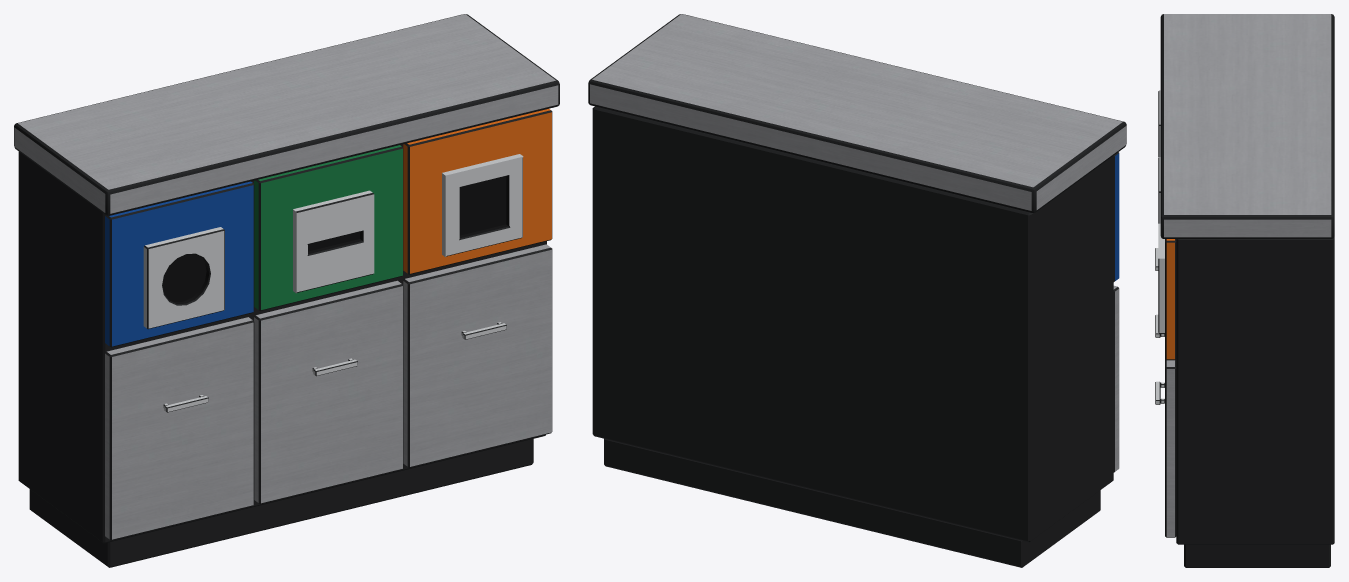
Rendered from gteki_bin_trio.glb.
3 views of the same model, side by side, from view 1: azimuth 30°, elevation 25°; view 2: azimuth 150°, elevation 25°; view 3: azimuth 270°, elevation 25° (orthographic). The views are drawn at different scales.
Parts seen in each view (by area): view 1: VIS_fronts, VIS_cap, VIS_body, VIS_plates, VIS_handles; view 2: VIS_body, VIS_cap, VIS_fronts; view 3: VIS_body, VIS_cap, VIS_fronts, VIS_plates, VIS_handles.
Boxes of the visible parts, x1,y1,x2,y2 form: VIS_fronts: [105, 108, 552, 540]; VIS_cap: [14, 14, 559, 215]; VIS_body: [18, 144, 546, 567]; VIS_plates: [143, 154, 523, 329]; VIS_handles: [163, 322, 506, 412]; VIS_body: [592, 106, 1113, 567]; VIS_cap: [588, 14, 1126, 212]; VIS_fronts: [1113, 152, 1119, 472]; VIS_body: [1176, 236, 1334, 567]; VIS_cap: [1160, 14, 1334, 238]; VIS_fronts: [1165, 239, 1176, 537]; VIS_plates: [1158, 90, 1164, 333]; VIS_handles: [1155, 248, 1164, 404].
Size of what is drawn, in the model's own units: 1.28 by 1.05 by 0.476.
7 materials, 1 textured.
